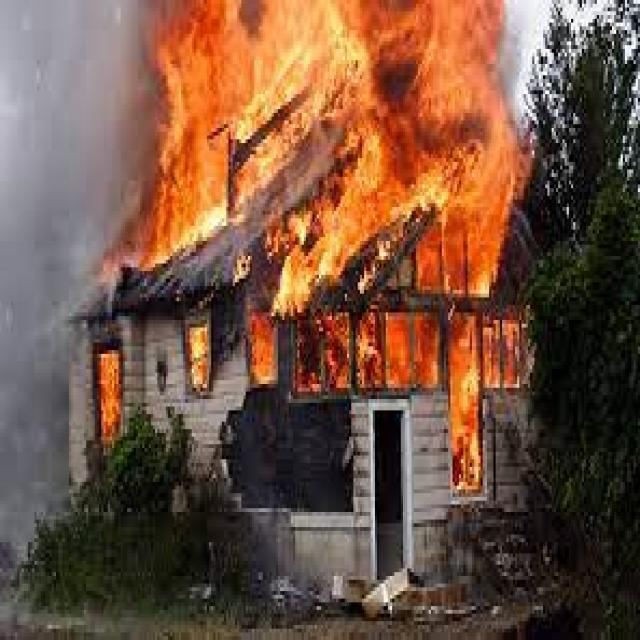Fire: (140, 0, 532, 209), (286, 177, 532, 389), (99, 152, 224, 256), (448, 309, 485, 497)
Smoke: (1, 2, 148, 280), (0, 237, 67, 516)
